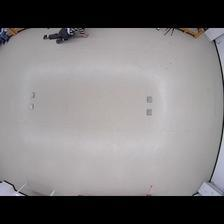fall: (43, 27, 91, 44)
